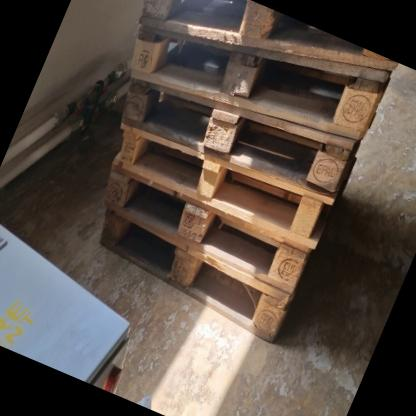BoxFace: (129, 20, 390, 136), (120, 73, 359, 198), (112, 123, 334, 249), (94, 209, 296, 346), (99, 166, 312, 293), (137, 0, 398, 72)
